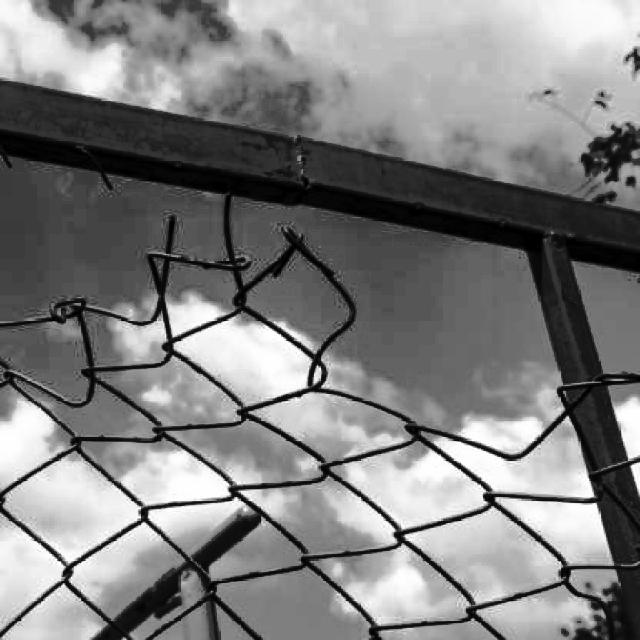anomaly-fence: (4, 127, 640, 492)
